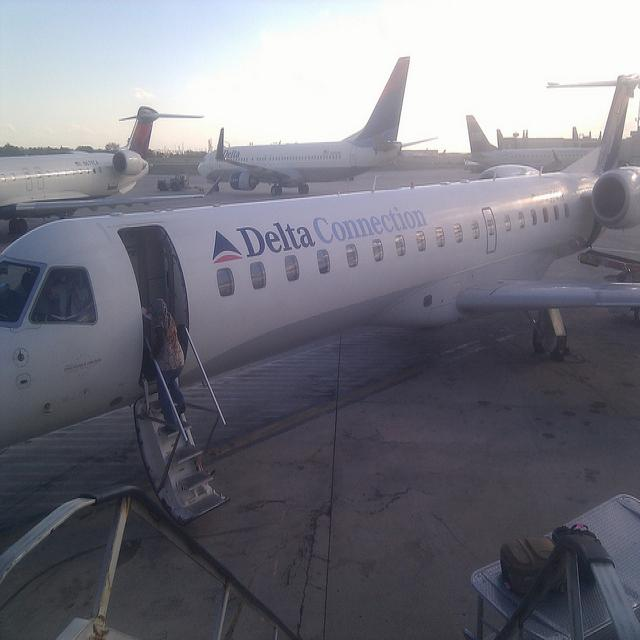Vehicle: (157, 177, 180, 191)
